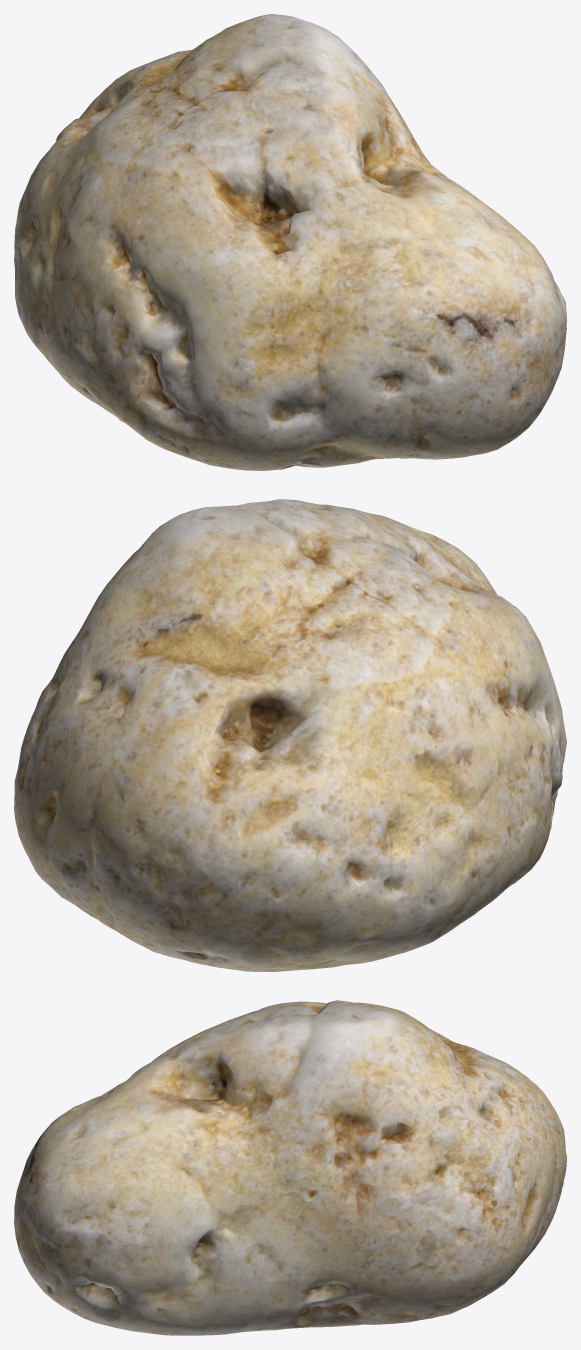
3 views of the same model, one above another, from view 1: azimuth 30°, elevation 25°; view 2: azimuth 150°, elevation 25°; view 3: azimuth 270°, elevation 25° (orthographic). The views are drawn at different scales.
Visible parts, largest first — view 1: rock-014; view 2: rock-014; view 3: rock-014.
Part boxes in pixels (x1=…): rock-014: x1=14, y1=14, x2=566, y2=470; rock-014: x1=14, y1=499, x2=566, y2=971; rock-014: x1=14, y1=1000, x2=566, y2=1335.
Size of the model in its own units: 1.38 by 1.21 by 2.
1 material, 1 textured.
